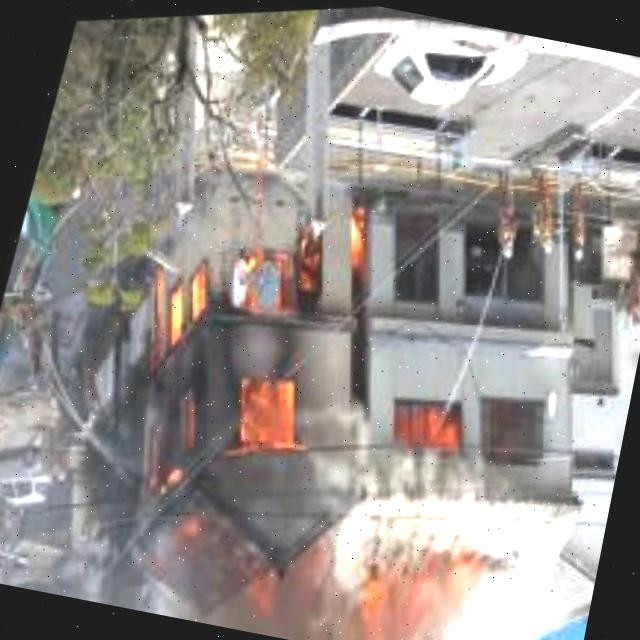fire: (20, 171, 397, 593), (321, 516, 529, 640), (364, 364, 537, 488)
